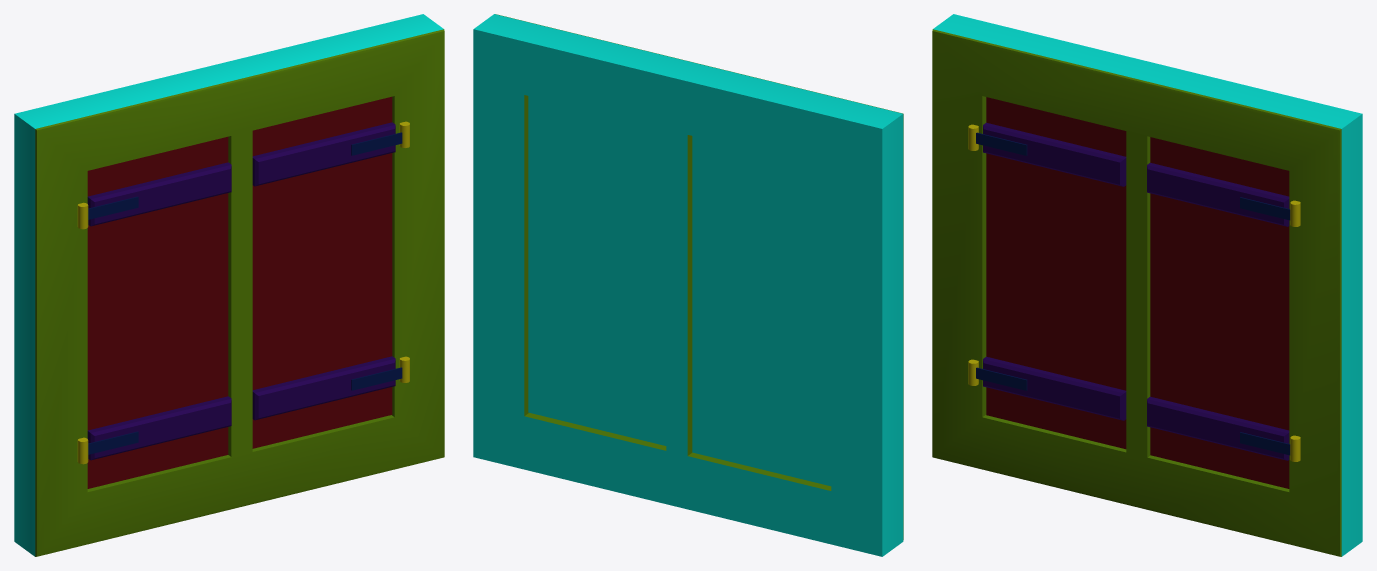
File: Window.fbx
3 renders of one model, left to right at view 1: azimuth 30°, elevation 25°; view 2: azimuth 150°, elevation 25°; view 3: azimuth 330°, elevation 25°, orthographic.
Parts seen in each view (by area): view 1: Box001, Box002, Box004, Box003, Box006, Box005; view 2: Box001, Box002; view 3: Box001, Box002, Box005, Box006, Box003, Box004.
Part boxes in pixels (box(x1,y1,x2,y2)): Box001: box(14, 14, 444, 556); Box002: box(87, 96, 395, 488); Box004: box(77, 196, 138, 229); Box003: box(77, 431, 138, 464); Box006: box(351, 356, 409, 390); Box005: box(351, 121, 409, 155); Box001: box(473, 14, 903, 556); Box002: box(528, 96, 831, 486); Box001: box(932, 14, 1362, 556); Box002: box(983, 97, 1289, 488); Box005: box(1240, 197, 1300, 226); Box006: box(1240, 432, 1300, 461); Box003: box(968, 359, 1027, 390); Box004: box(968, 124, 1027, 155).
Size of the model in its own units: 60 by 60 by 6.79.
